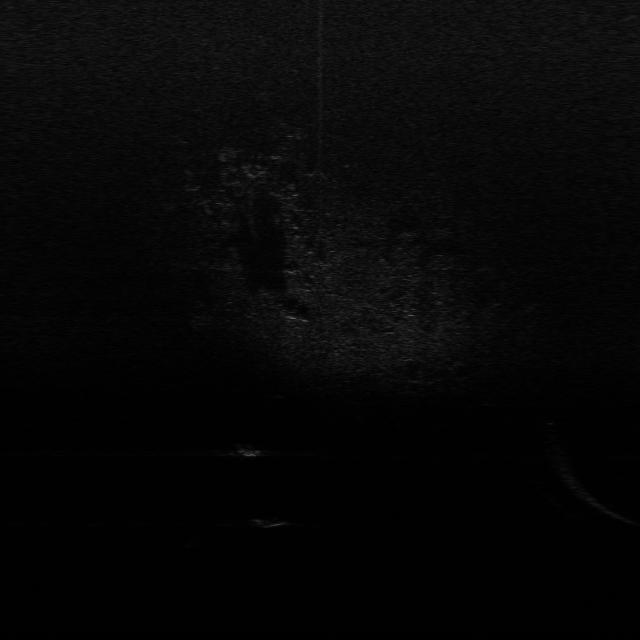cube: (253, 508, 293, 532)
square cage: (227, 437, 268, 461)
